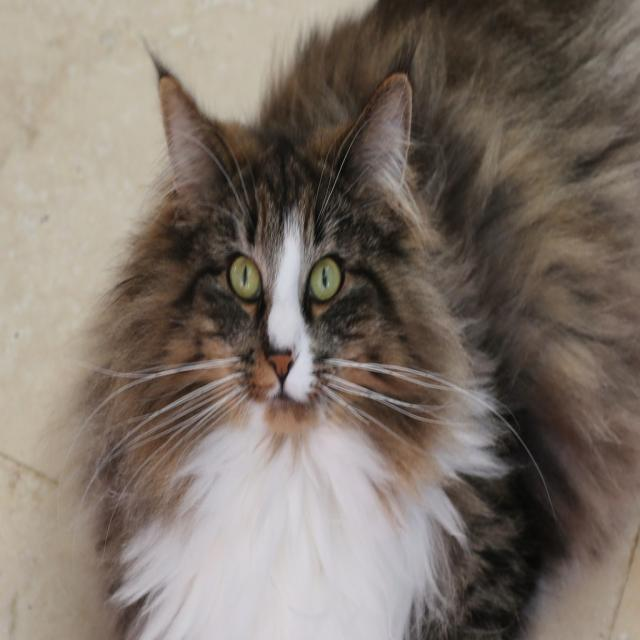Cat: (54, 0, 639, 638)
